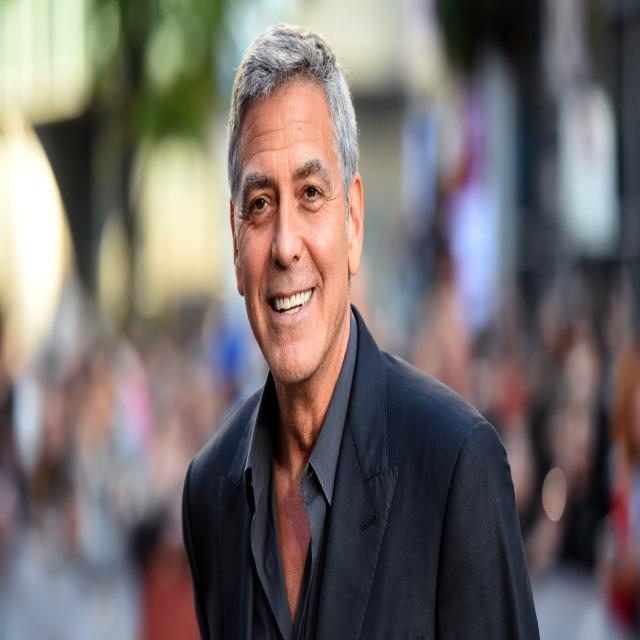human: (177, 10, 543, 640)
